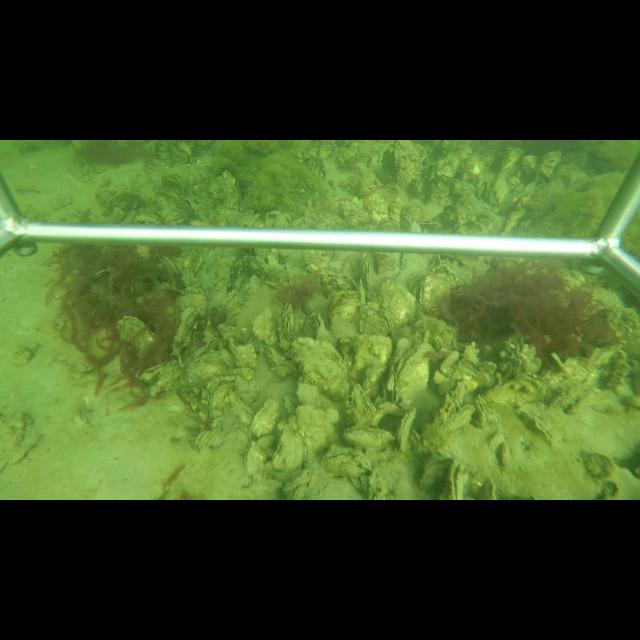Oyster-Closed: (271, 404, 339, 473), (291, 335, 352, 409), (393, 342, 436, 407), (419, 265, 460, 317), (377, 277, 416, 327), (339, 424, 395, 452), (326, 288, 360, 333), (118, 315, 155, 356), (350, 379, 379, 425), (419, 456, 454, 493), (516, 411, 556, 443), (250, 397, 282, 436), (227, 335, 260, 369), (228, 388, 255, 425), (243, 439, 269, 477), (397, 406, 416, 455), (358, 309, 394, 334), (256, 344, 287, 368), (191, 338, 220, 360), (208, 385, 230, 412), (551, 352, 571, 381), (473, 393, 489, 427), (362, 252, 375, 291), (314, 314, 331, 338), (209, 275, 225, 296), (280, 394, 297, 413), (163, 255, 179, 275)
Oyster-Open: (440, 460, 473, 499), (174, 196, 199, 215)
